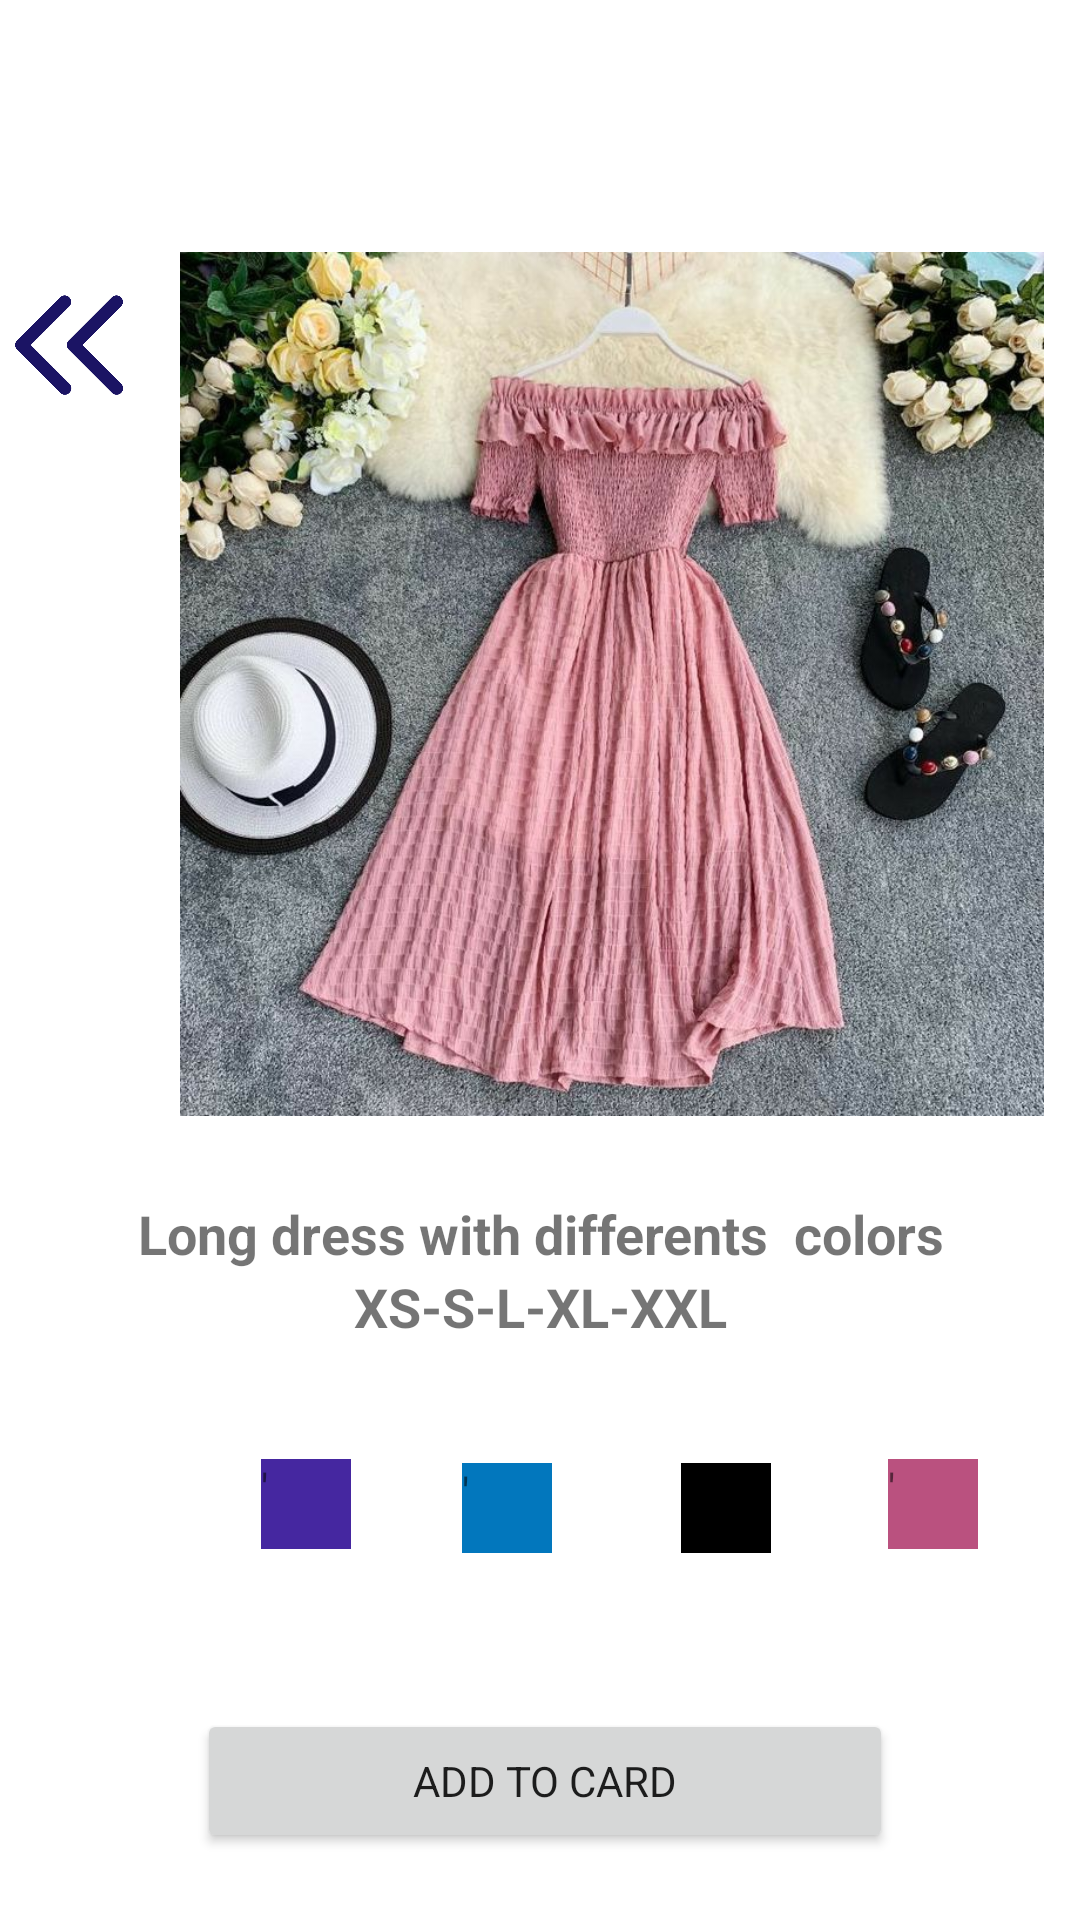

Icon click points for this 1080px x 1920px phone screenshot, format point (x, y):
back: point (69, 345)
